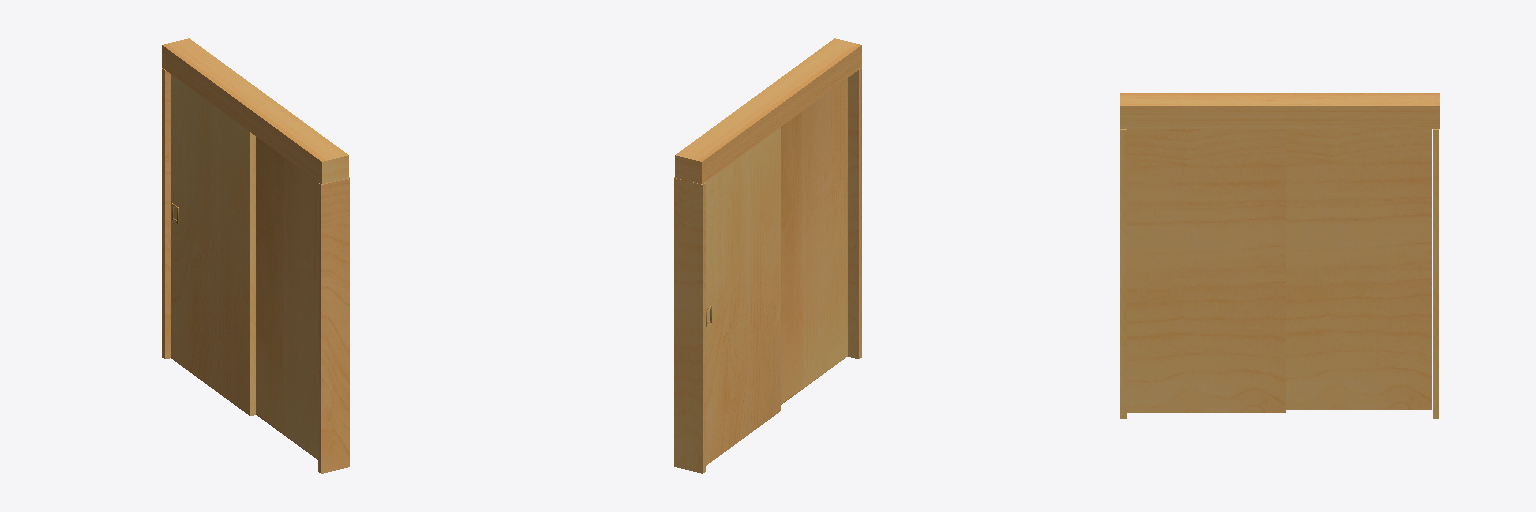
3 renders of one model, left to right at view 1: azimuth 30°, elevation 25°; view 2: azimuth 150°, elevation 25°; view 3: azimuth 270°, elevation 25°, orthographic.
Parts seen in each view (by area): view 1: Cube.003_Cube.004, Cube.002_Cube.003, Cube_Cube.001, Cube.001_Cube.002, Cube.004_Cube.005; view 2: Cube.003_Cube.004, Cube.002_Cube.003, Cube.004_Cube.005, Cube.001_Cube.002, Cube_Cube.001; view 3: Cube.002_Cube.003, Cube.003_Cube.004, Cube.001_Cube.002, Cube_Cube.001, Cube.004_Cube.005.
Part boxes in pixels (bbox=[...]): Cube.003_Cube.004: bbox=[171, 75, 255, 415]; Cube.002_Cube.003: bbox=[256, 137, 318, 459]; Cube_Cube.001: bbox=[318, 177, 349, 473]; Cube.001_Cube.002: bbox=[162, 38, 348, 183]; Cube.004_Cube.005: bbox=[162, 68, 170, 358]; Cube.003_Cube.004: bbox=[706, 127, 780, 465]; Cube.002_Cube.003: bbox=[781, 78, 847, 404]; Cube.004_Cube.005: bbox=[674, 177, 705, 473]; Cube.001_Cube.002: bbox=[675, 38, 861, 183]; Cube_Cube.001: bbox=[848, 68, 861, 358]; Cube.002_Cube.003: bbox=[1127, 129, 1285, 412]; Cube.003_Cube.004: bbox=[1286, 129, 1431, 409]; Cube.001_Cube.002: bbox=[1120, 93, 1439, 128]; Cube_Cube.001: bbox=[1120, 129, 1126, 418]; Cube.004_Cube.005: bbox=[1433, 129, 1438, 418].
Size of the model in its own units: 0.72 by 7.43 by 6.9.
Materials: 3 (2 with a texture image).